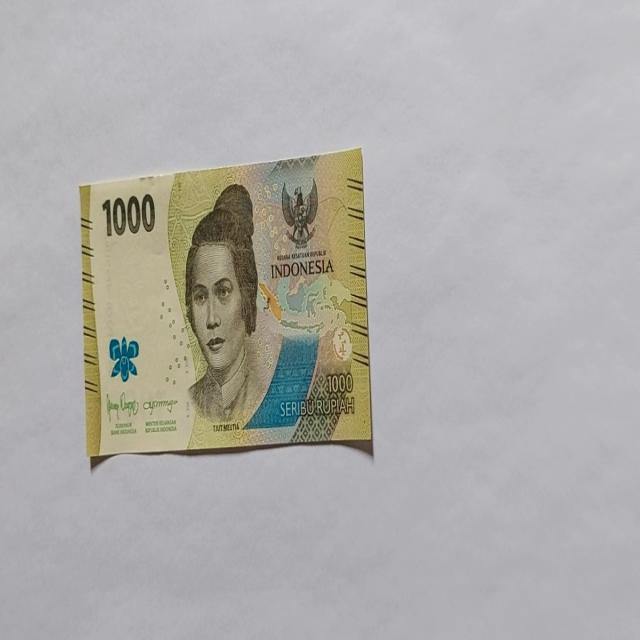seribu rupiah kertas: (79, 146, 373, 462)
